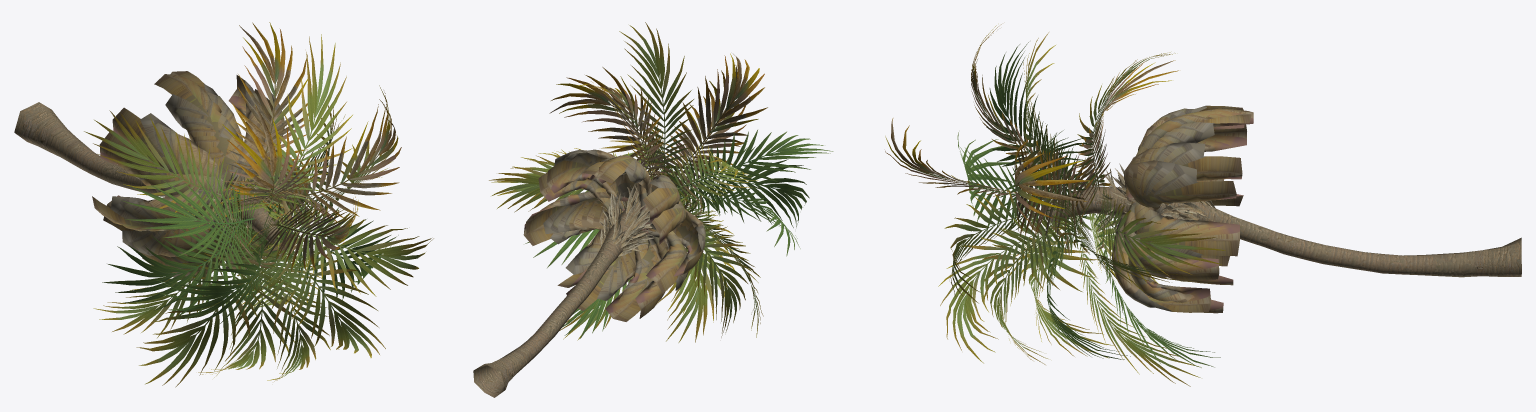
Rendered from Palm.fbx.
3 views of the same model, side by side, from view 1: azimuth 30°, elevation 25°; view 2: azimuth 150°, elevation 25°; view 3: azimuth 270°, elevation 25° (orthographic). The views are drawn at different scales.
Parts seen in each view (by area): view 1: LOD0; view 2: LOD0; view 3: LOD0.
Part boxes in pixels (bbox=[...]): LOD0: bbox=[14, 22, 433, 387]; LOD0: bbox=[473, 22, 833, 397]; LOD0: bbox=[885, 24, 1521, 386].
Size of what is drawn, in the model's own units: 21.67 by 21.46 by 33.75.
